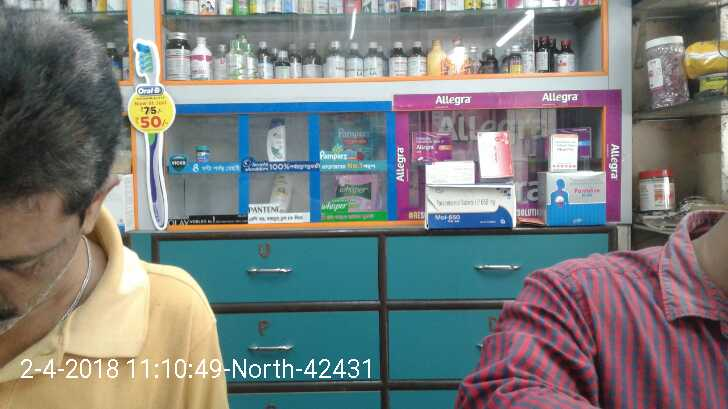vicks: (191, 144, 213, 167)
